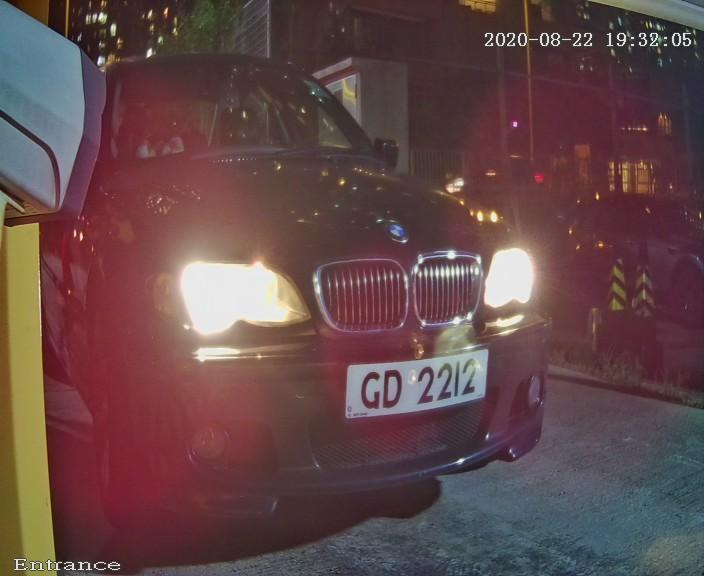Car: (13, 11, 610, 548)
License Plate: (316, 332, 520, 433)
